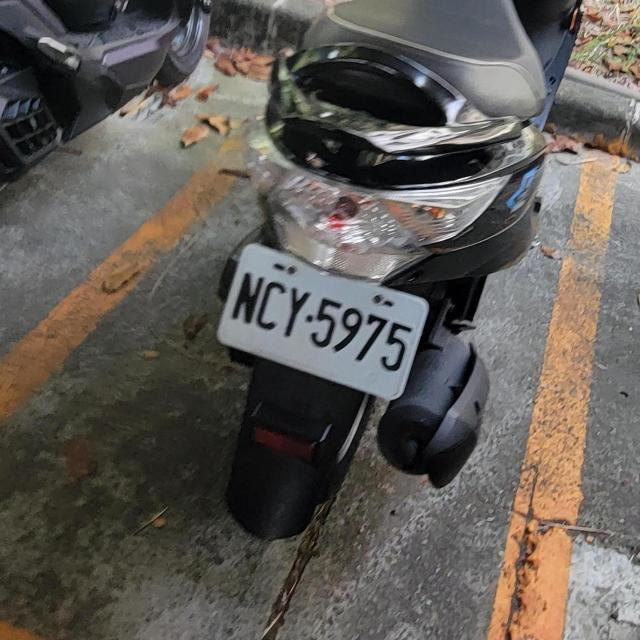W: (208, 239, 437, 403)
